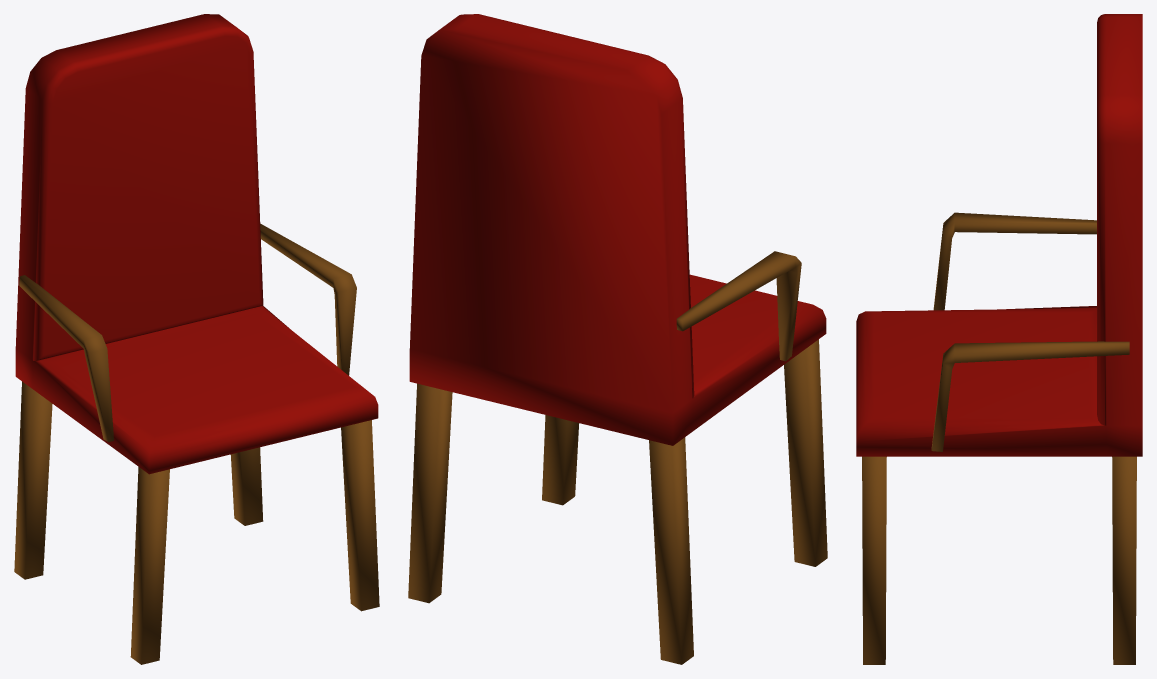
File: Chair.glb
3 views of the same model, side by side, from view 1: azimuth 30°, elevation 25°; view 2: azimuth 150°, elevation 25°; view 3: azimuth 270°, elevation 25° (orthographic). The views are drawn at different scales.
Visible parts, largest first — view 1: Chair Top.001, Chair legs.001, Chair Arms.001; view 2: Chair Top.001, Chair legs.001, Chair Arms.001; view 3: Chair Top.001, Chair legs.001, Chair Arms.001.
Boxes of the visible parts, left/top/right/bottom form: Chair Top.001: left=15, top=14, right=378, bottom=474; Chair legs.001: left=14, top=381, right=379, bottom=664; Chair Arms.001: left=19, top=223, right=356, bottom=442; Chair Top.001: left=409, top=14, right=826, bottom=445; Chair legs.001: left=408, top=339, right=827, bottom=664; Chair Arms.001: left=676, top=251, right=801, bottom=361; Chair Top.001: left=856, top=14, right=1142, bottom=456; Chair legs.001: left=862, top=456, right=1136, bottom=664; Chair Arms.001: left=931, top=212, right=1129, bottom=451.
Size of the model in its own units: 0.5846 by 1.06 by 0.5039.
